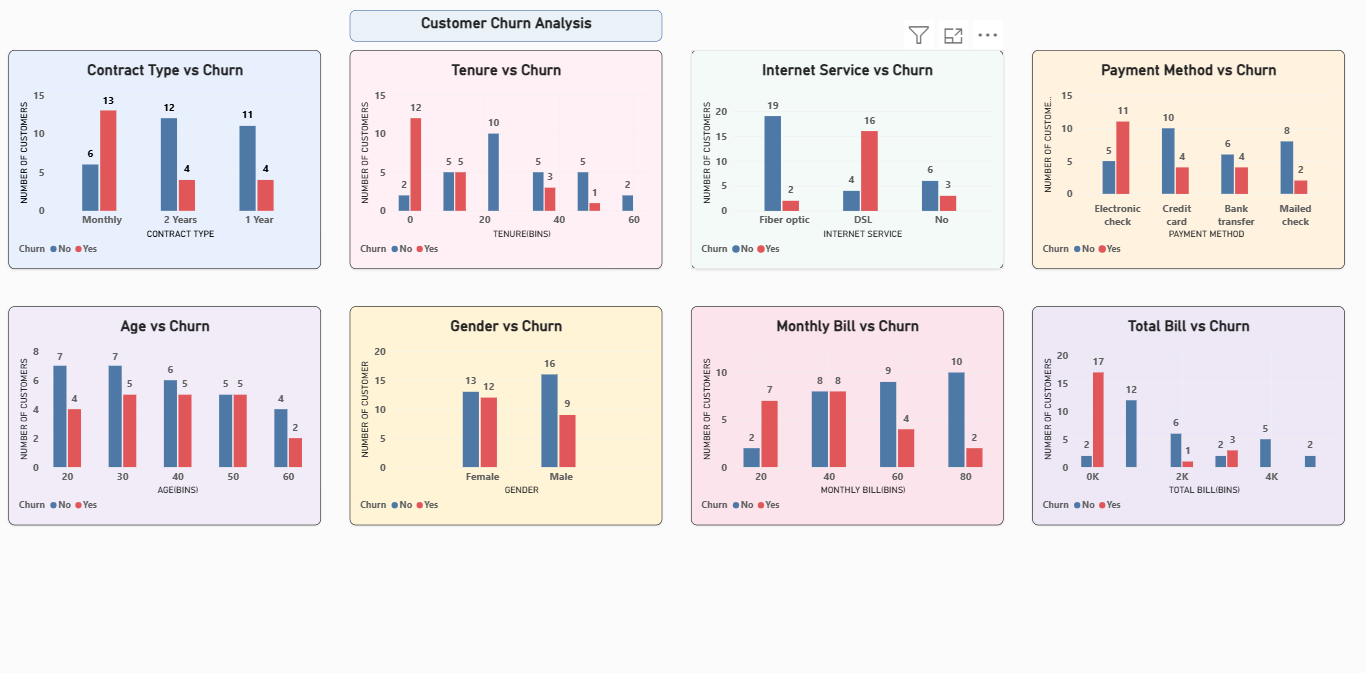

Layout of this report page (visuals, bound fields, positions):
{"tool":"powerbi","page":{"name":"Churn Analysis","canvas":[2191,1080],"ordinal":1},"visuals":[{"type":"lineClusteredColumnComboChart","title":"Contract Type vs Churn","fields":{"Category":["customer_churn.ContractType"],"Series":["customer_churn.Churn"],"Y":["CountNonNull(customer_churn.CustomerID)"]},"box":[20,80,500,350],"z":0},{"type":"lineClusteredColumnComboChart","title":"Tenure vs Churn","fields":{"Category":["customer_churn.Tenure (bins)"],"Series":["customer_churn.Churn"],"Y":["CountNonNull(customer_churn.CustomerID)"]},"box":[566.4,80,500,350],"z":1},{"type":"lineClusteredColumnComboChart","title":"Internet Service vs Churn","fields":{"Category":["customer_churn.InternetService"],"Series":["customer_churn.Churn"],"Y":["CountNonNull(customer_churn.CustomerID)"]},"box":[1112,80,500,350],"z":2},{"type":"lineClusteredColumnComboChart","title":"Payment Method vs Churn","fields":{"Category":["customer_churn.PaymentMethod"],"Series":["customer_churn.Churn"],"Y":["CountNonNull(customer_churn.CustomerID)"]},"box":[1658,80,500,350],"z":3},{"type":"lineClusteredColumnComboChart","title":"Age vs Churn","fields":{"Category":["customer_churn.Age (bins)"],"Series":["customer_churn.Churn"],"Y":["CountNonNull(customer_churn.CustomerID)"]},"box":[20,490,500,350],"z":4},{"type":"lineClusteredColumnComboChart","title":"Gender vs Churn","fields":{"Category":["customer_churn.Gender"],"Series":["customer_churn.Churn"],"Y":["CountNonNull(customer_churn.CustomerID)"]},"box":[566,490,500,350],"z":5},{"type":"lineClusteredColumnComboChart","title":"Monthly Bill vs Churn","fields":{"Category":["customer_churn.MonthlyBill (bins)"],"Series":["customer_churn.Churn"],"Y":["CountNonNull(customer_churn.CustomerID)"]},"box":[1112.6,490,500,350],"z":6},{"type":"lineClusteredColumnComboChart","title":"Total Bill vs Churn","fields":{"Category":["customer_churn.TotalBill (bins)"],"Series":["customer_churn.Churn"],"Y":["CountNonNull(customer_churn.CustomerID)"]},"box":[1658,490,500,350],"z":7},{"type":"textbox","box":[20,790,500,290],"z":8},{"type":"textbox","box":[566,790,500,290],"z":9},{"type":"textbox","title":"Customer Churn Analysis","box":[565.7,15.7,500,50],"z":10}]}

Visuals, with their boxes in screenshot pixels (x1, y1, x2, y2), scaled from the page's 2191x1080 canvas onto the 1366x673 screenshot:
"Contract Type vs Churn" lineClusteredColumnComboChart: bbox=[12, 50, 324, 268]
"Tenure vs Churn" lineClusteredColumnComboChart: bbox=[353, 50, 665, 268]
"Internet Service vs Churn" lineClusteredColumnComboChart: bbox=[693, 50, 1005, 268]
"Payment Method vs Churn" lineClusteredColumnComboChart: bbox=[1034, 50, 1345, 268]
"Age vs Churn" lineClusteredColumnComboChart: bbox=[12, 305, 324, 523]
"Gender vs Churn" lineClusteredColumnComboChart: bbox=[353, 305, 665, 523]
"Monthly Bill vs Churn" lineClusteredColumnComboChart: bbox=[694, 305, 1005, 523]
"Total Bill vs Churn" lineClusteredColumnComboChart: bbox=[1034, 305, 1345, 523]
textbox: bbox=[12, 492, 324, 672]
textbox: bbox=[353, 492, 665, 672]
"Customer Churn Analysis" textbox: bbox=[353, 10, 664, 41]
